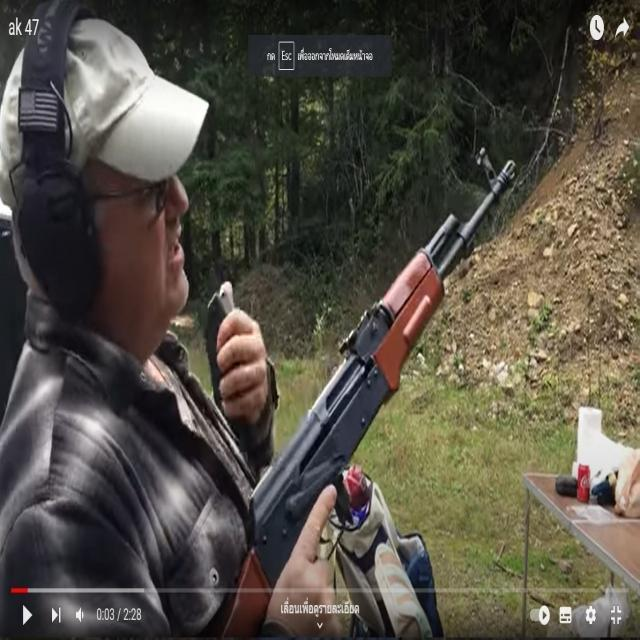ak: (204, 148, 520, 637)
